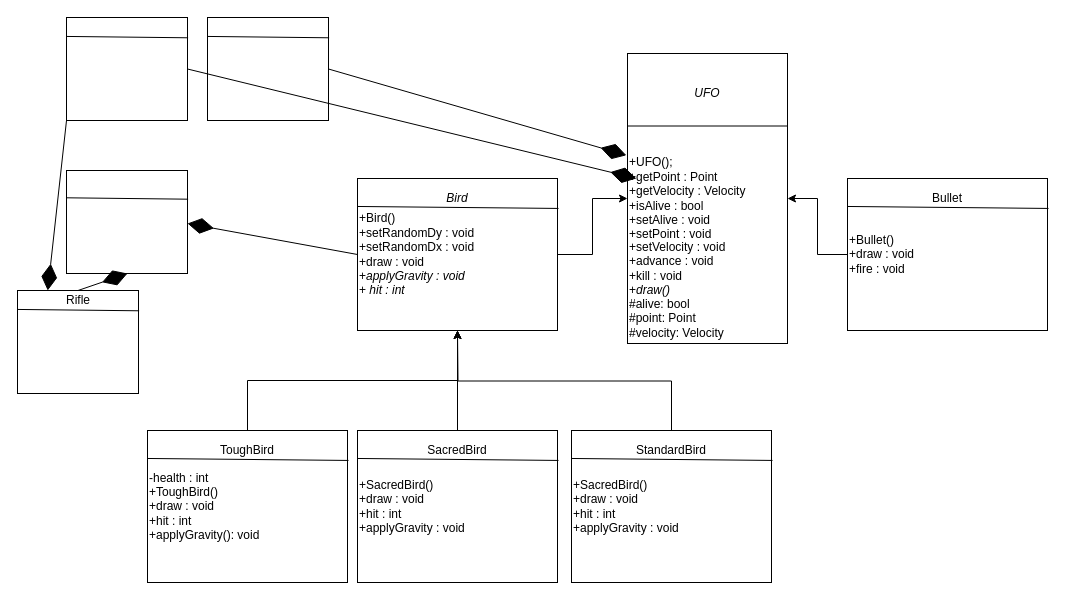
The diagram is 1067 pixels wide and 600 high, and some of its shapes have lost their labels. Here are the shapes that lost their labels. From the top down, the box of each, then its label:
(66, 16, 188, 120): Point
(206, 16, 328, 120): Velocity
(66, 170, 188, 274): Game
